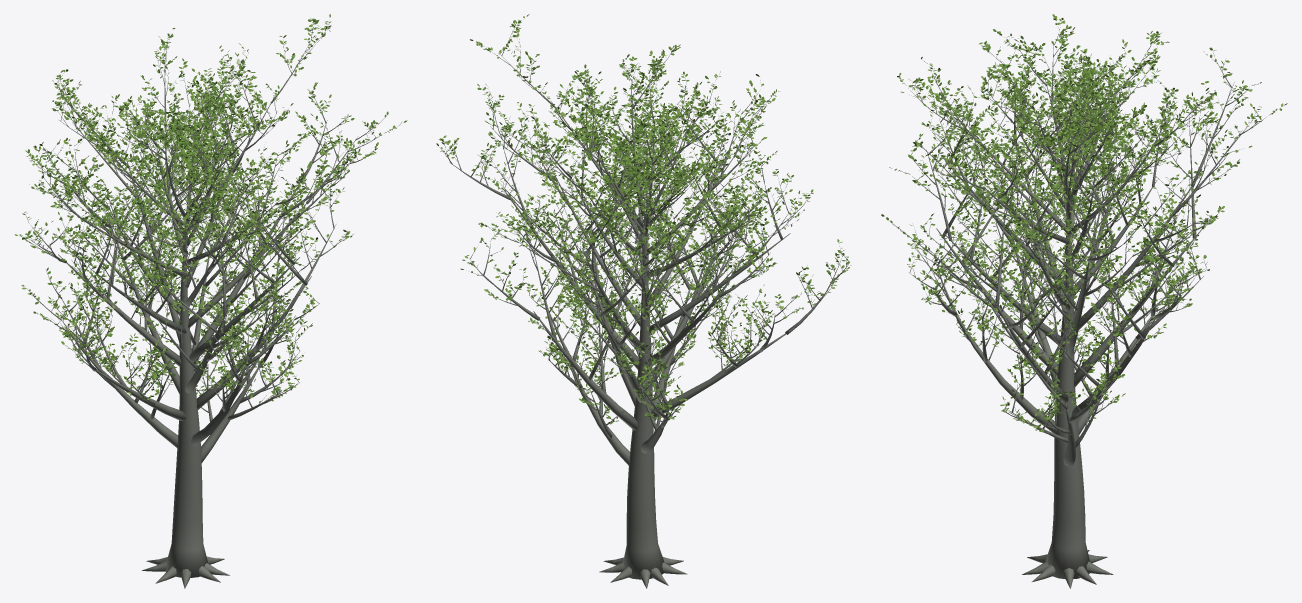
The model's file is Beech_Mature_01_Unpruned_LOD1.fbx.
The picture shows the model from 3 angles, left to right: view 1: azimuth 30°, elevation 25°; view 2: azimuth 150°, elevation 25°; view 3: azimuth 270°, elevation 25°; orthographic projection. The views are drawn at different scales.
Parts seen in each view (by area): view 1: Beech_Mature_01_Unpruned_LOD1; view 2: Beech_Mature_01_Unpruned_LOD1; view 3: Beech_Mature_01_Unpruned_LOD1.
Boxes of the visible parts, x1=… form: Beech_Mature_01_Unpruned_LOD1: x1=14, y1=14, x2=407, y2=588; Beech_Mature_01_Unpruned_LOD1: x1=436, y1=14, x2=851, y2=588; Beech_Mature_01_Unpruned_LOD1: x1=881, y1=14, x2=1287, y2=588.
Bounding box in the file's own units: 1794 × 2506 × 1648.
5 materials, 1 textured.
